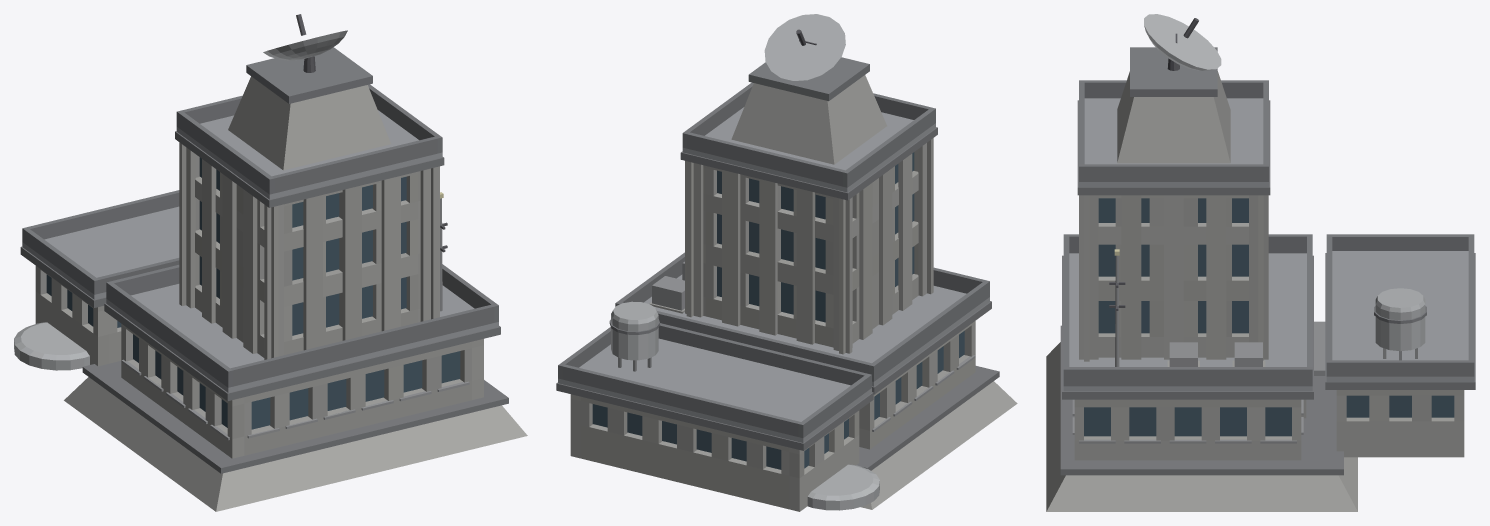
File: soviet_bureau.glb
The picture shows the model from 3 angles, left to right: view 1: azimuth 30°, elevation 25°; view 2: azimuth 150°, elevation 25°; view 3: azimuth 270°, elevation 25°; orthographic projection. The views are drawn at different scales.
Parts seen in each view (by area): view 1: shaft_piers, plinth, base_wall, crown, shaft_wall, base_parapet, plinth_cap, shaft_parapet, base_deck, tunnel_deck, tunnel_parapet, shaft_glass (+9 smaller); view 2: shaft_piers, tunnel_wall, shaft_wall, tunnel_deck, crown, tunnel_parapet, base_parapet, shaft_parapet, plinth, base_wall, base_deck, radar (+11 smaller); view 3: shaft_piers, plinth, tunnel_deck, crown, base_wall, shaft_wall, base_deck, plinth_cap, base_parapet, tunnel_wall, tunnel_parapet, shaft_deck (+13 smaller).
Part boxes in pixels (x1,y1,x2,y2): shaft_piers: (179,142,439,359); plinth: (64,377,527,511); base_wall: (121,324,483,458); crown: (228,47,390,170); shaft_wall: (195,154,420,357); base_parapet: (106,264,498,387); plinth_cap: (82,361,508,473); shaft_parapet: (176,84,442,194); base_deck: (106,284,498,392); tunnel_deck: (22,206,179,299); tunnel_parapet: (22,190,179,294); shaft_glass: (199,157,406,335); shaft_piers: (685,138,933,354); tunnel_wall: (570,394,859,511); shaft_wall: (703,149,918,347); tunnel_deck: (558,338,871,442); crown: (731,57,886,164); tunnel_parapet: (558,323,871,437); base_parapet: (615,252,989,381); shaft_parapet: (682,82,935,187); plinth: (860,381,1017,509); base_wall: (859,321,975,449); base_deck: (644,274,989,386); radar: (764,14,845,80); shaft_piers: (1079,195,1268,361); plinth: (1046,342,1357,511); tunnel_deck: (1326,251,1474,381); crown: (1117,47,1230,163); base_wall: (1074,399,1306,460); shaft_wall: (1098,195,1248,357); base_deck: (1063,253,1312,391); plinth_cap: (1060,325,1343,475); base_parapet: (1063,234,1312,386); tunnel_wall: (1336,390,1464,457); tunnel_parapet: (1326,234,1474,376); shaft_deck: (1079,98,1268,187).
Bounding box in the file's own units: 27.9 × 32.4 × 30.3.
